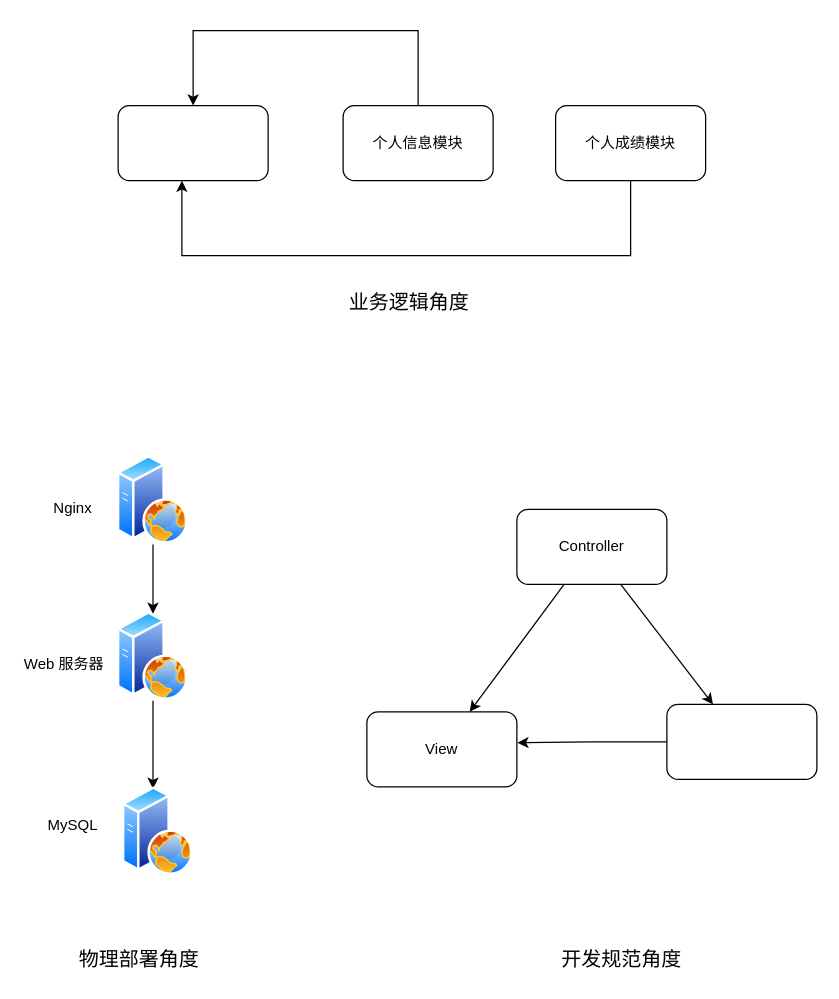
The diagram is 839 pixels wide and 999 high, and some of its shapes have lost their labels. Here are the shapes that lost their labels. From the top down, the centre of each, then its label:
At pixel 192 142: "登录注册模块".
At pixel 741 741: "Model".
